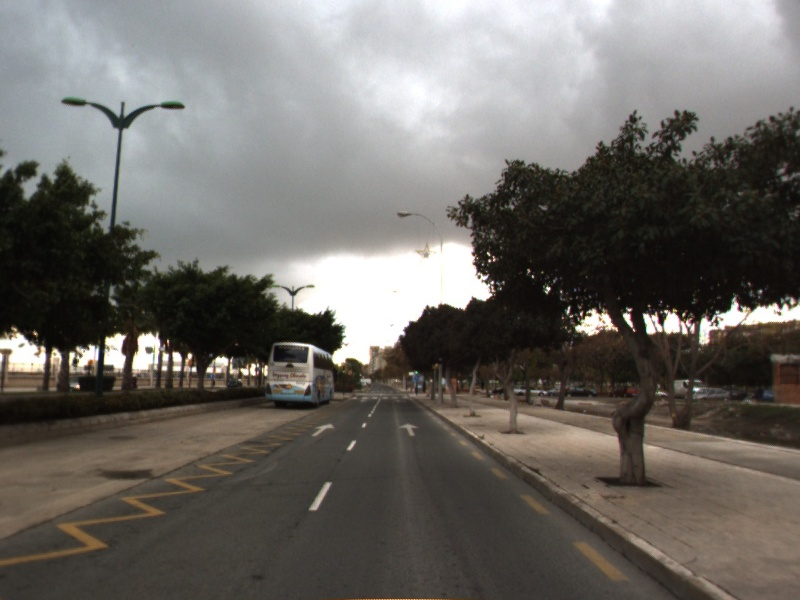STRAIGHT: (309, 421, 337, 438), (396, 421, 421, 438)
